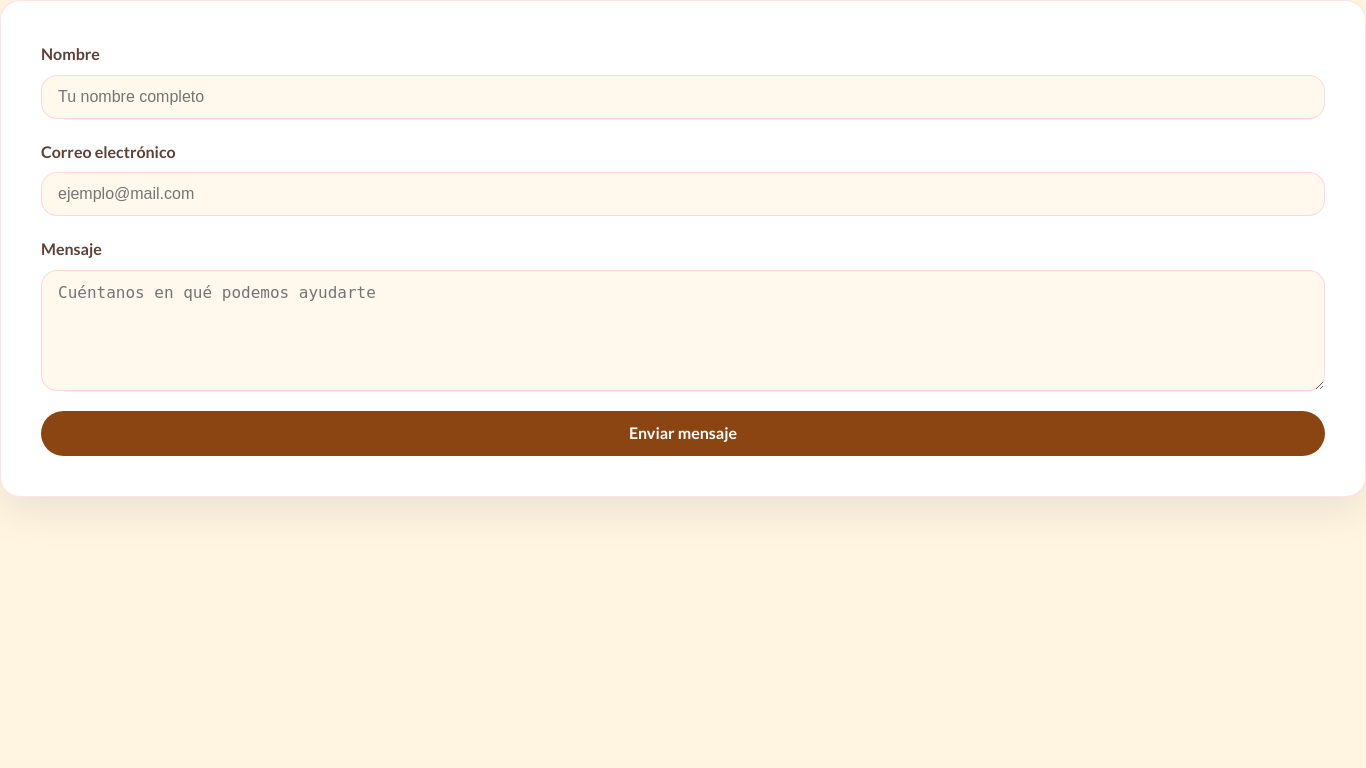
Scenario: ContactForm component › valida campos obligatorios y muestra mensajes de error
The image size is (1366, 768).
Click the button "Enviar mensaje" at (683, 433), box x1=41 y1=411 x2=1325 y2=456
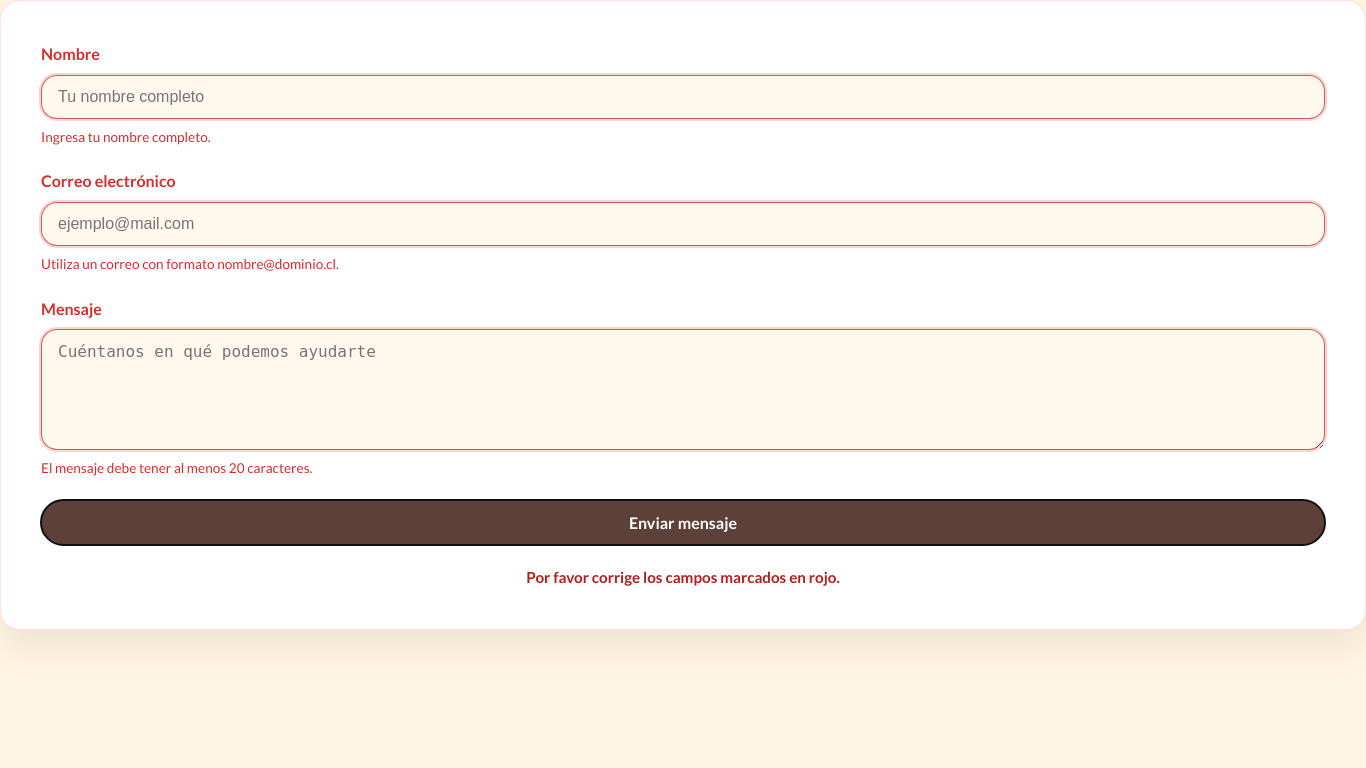
Expected: the text "Ingresa tu nombre completo." is shown, x1=41 y1=129 x2=211 y2=145
Expected: the text "Utiliza un correo con formato nombre@dominio.cl." is shown, x1=41 y1=256 x2=339 y2=272
Expected: the text "El mensaje debe tener al menos 20 caracteres." is shown, x1=41 y1=460 x2=312 y2=476
Type "Benjamin Castillo" into the field labelled "Nombre" at (683, 97), box x1=41 y1=75 x2=1325 y2=119
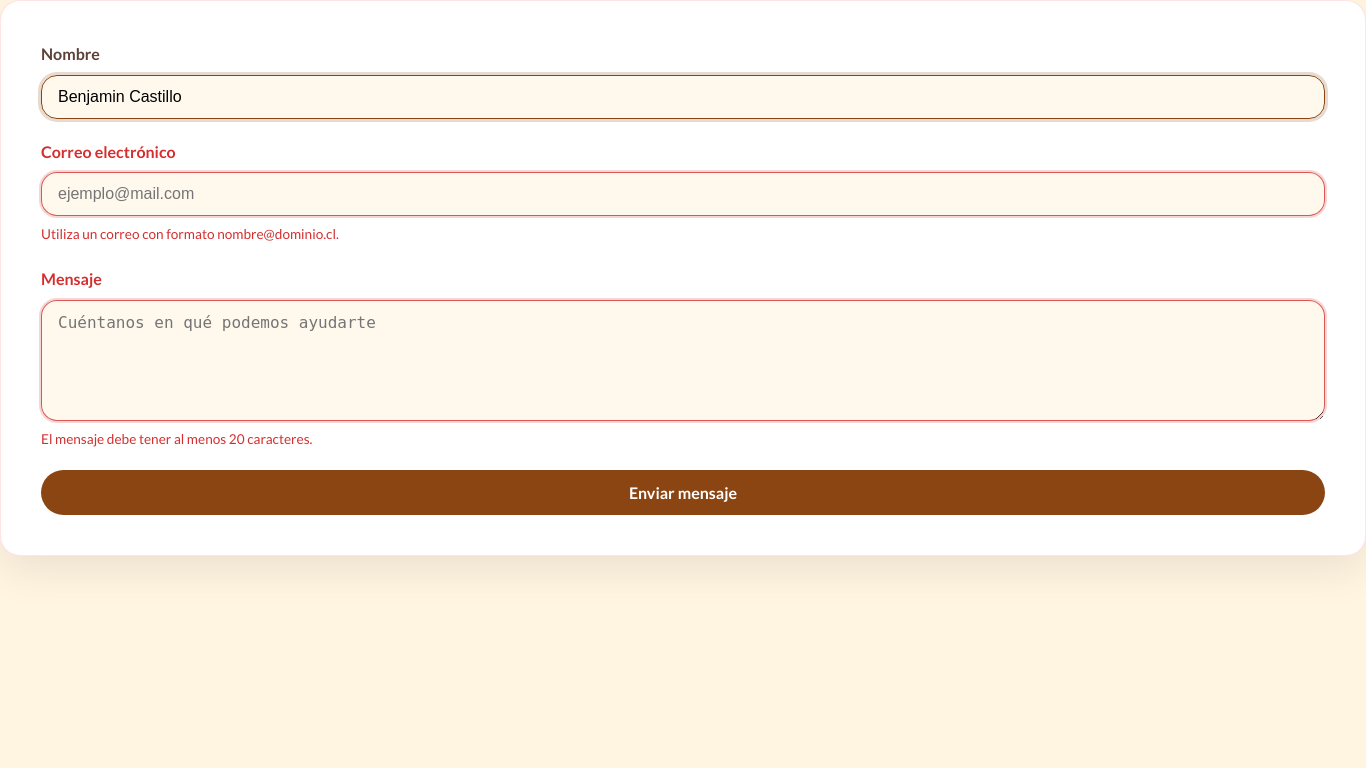
Type "benjamin@mail.cl" into the field labelled "Correo electrónico" at (683, 194), box x1=41 y1=172 x2=1325 y2=216
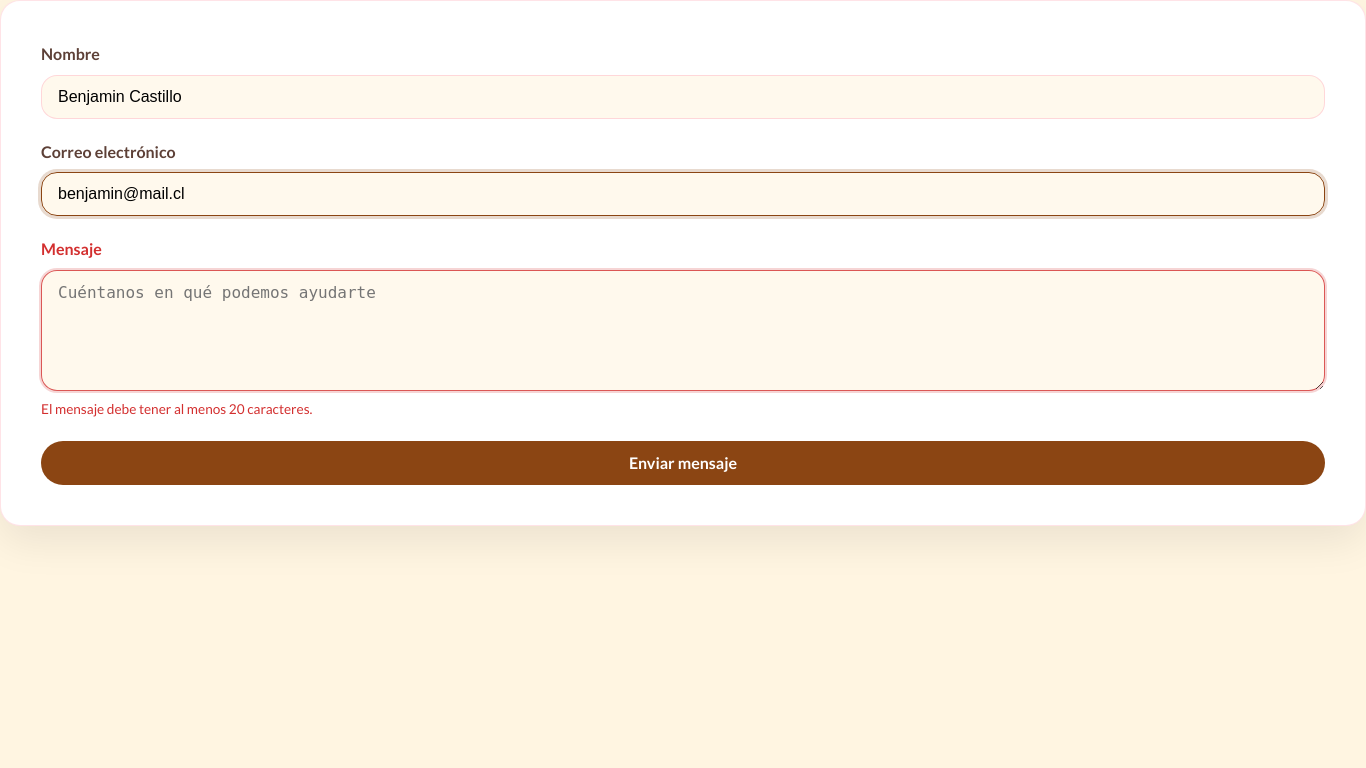
Type "Mensaje con suficiente detalle para validar." into the text box labelled "Mensaje" at (683, 330), box x1=41 y1=270 x2=1325 y2=391
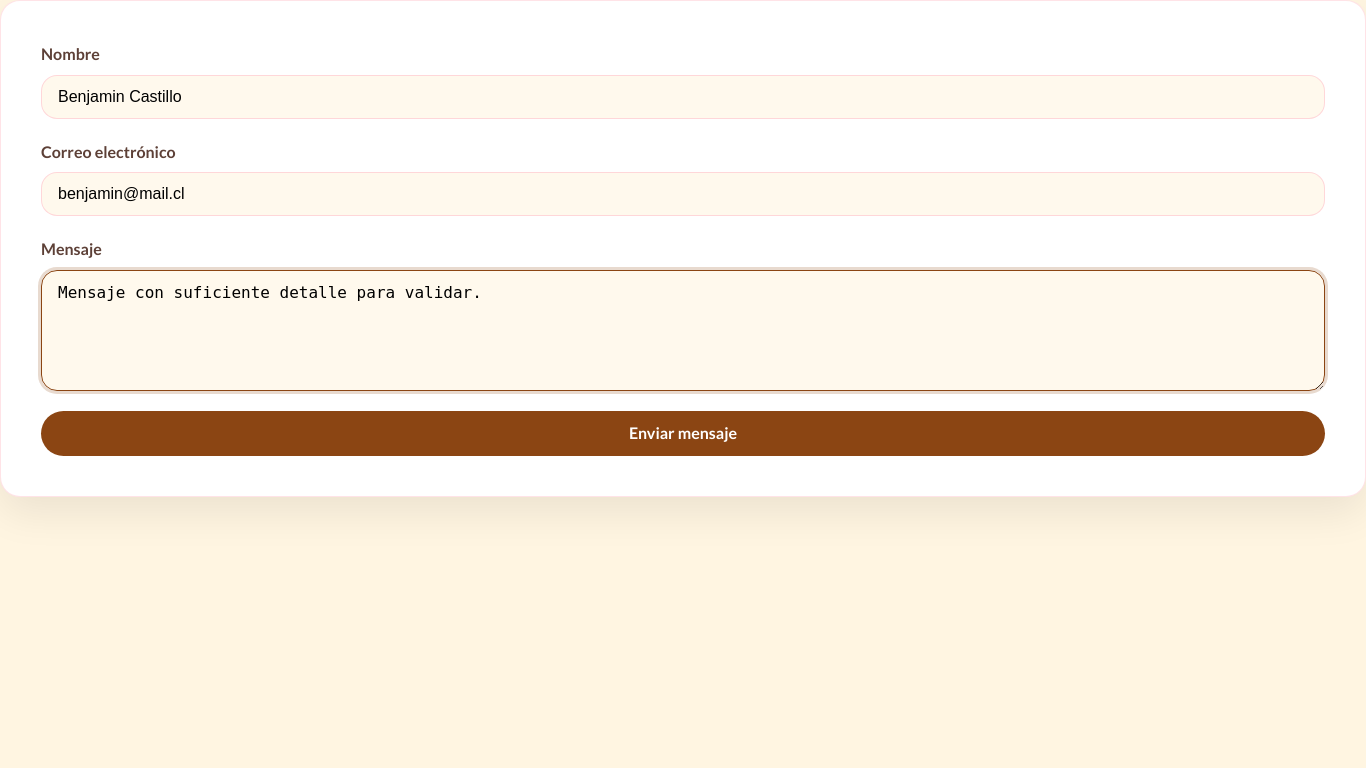
Click the button "Enviar mensaje" at (683, 433), box x1=41 y1=411 x2=1325 y2=456
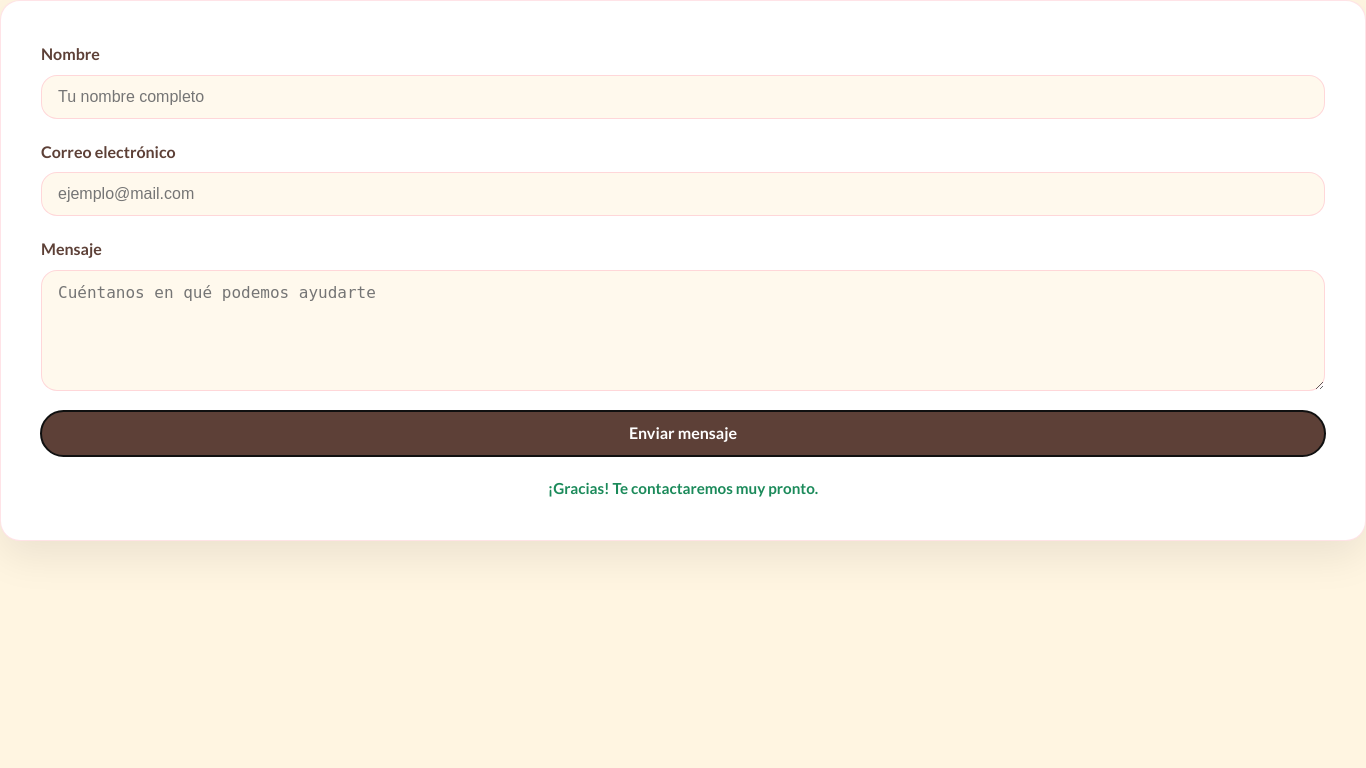
Expected: the text "Ingresa tu nombre completo." is not shown
Expected: the text "¡Gracias! Te contactaremos muy pronto." is shown, x1=548 y1=479 x2=818 y2=497
